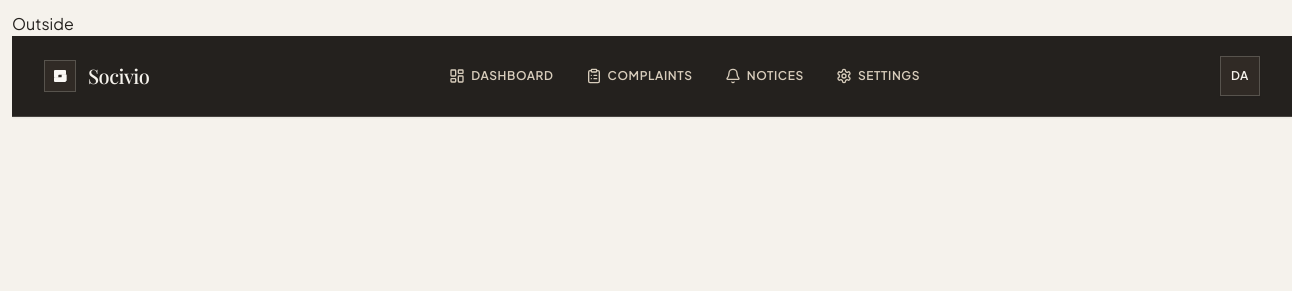
Test: Navbar Profile Trigger & Dropdown › closes dropdown on outside click
The image size is (1292, 291).
Step 1. Click the button with aria-label "Open account menu" → (1240, 76), box 1220,56 -> 1260,96
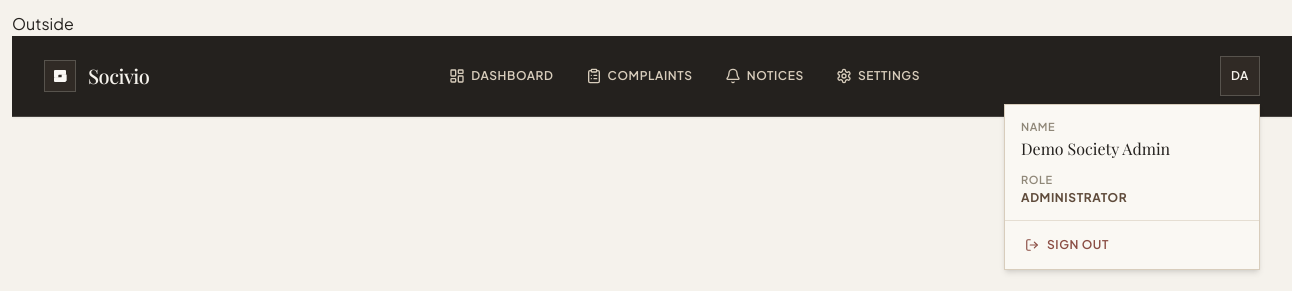
Check: the text "Demo Society Admin" is shown, box 1021,138 -> 1170,158
Step 2. Press the mouse on the text with test id "outside-area" → (43, 24), box 12,13 -> 74,34
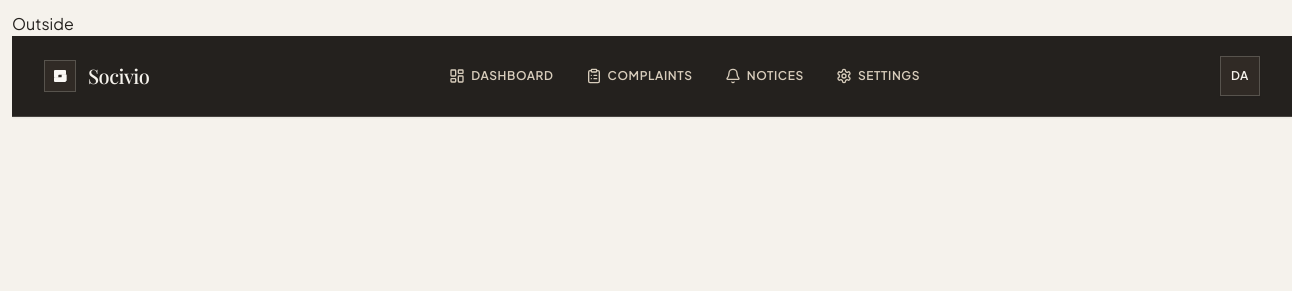
Check: the text "ADMINISTRATOR" is gone
